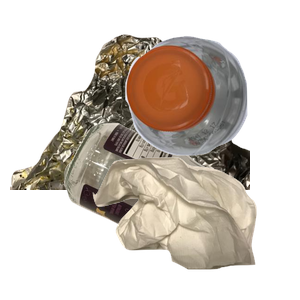glass: (62, 120, 300, 300)
metal: (10, 32, 250, 212)
plastic: (123, 33, 300, 181)
trash: (90, 155, 300, 300)
